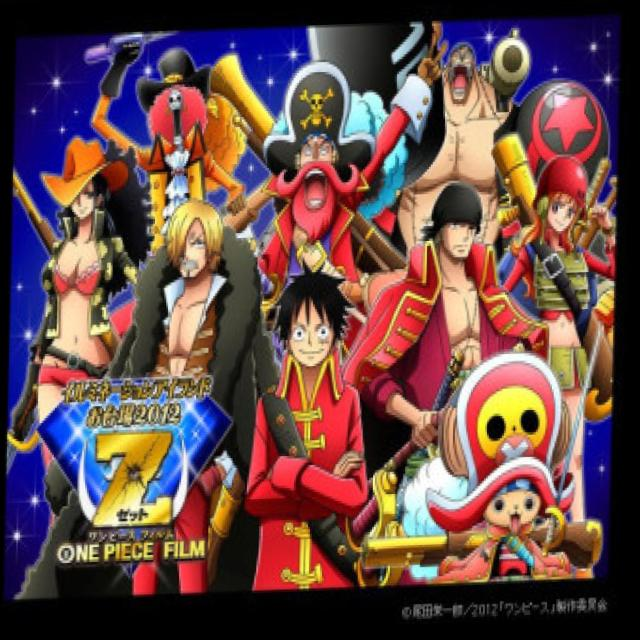Blook: (145, 61, 214, 179)
Chyopa: (449, 367, 577, 602)
Franky: (443, 26, 478, 113)
Luffy: (268, 264, 367, 380)
Nami: (520, 161, 596, 276)
NicoRobin: (39, 117, 136, 260)
Sangdi: (160, 186, 233, 293)
Usopp: (264, 110, 365, 254)
Zoro: (419, 174, 495, 288)
